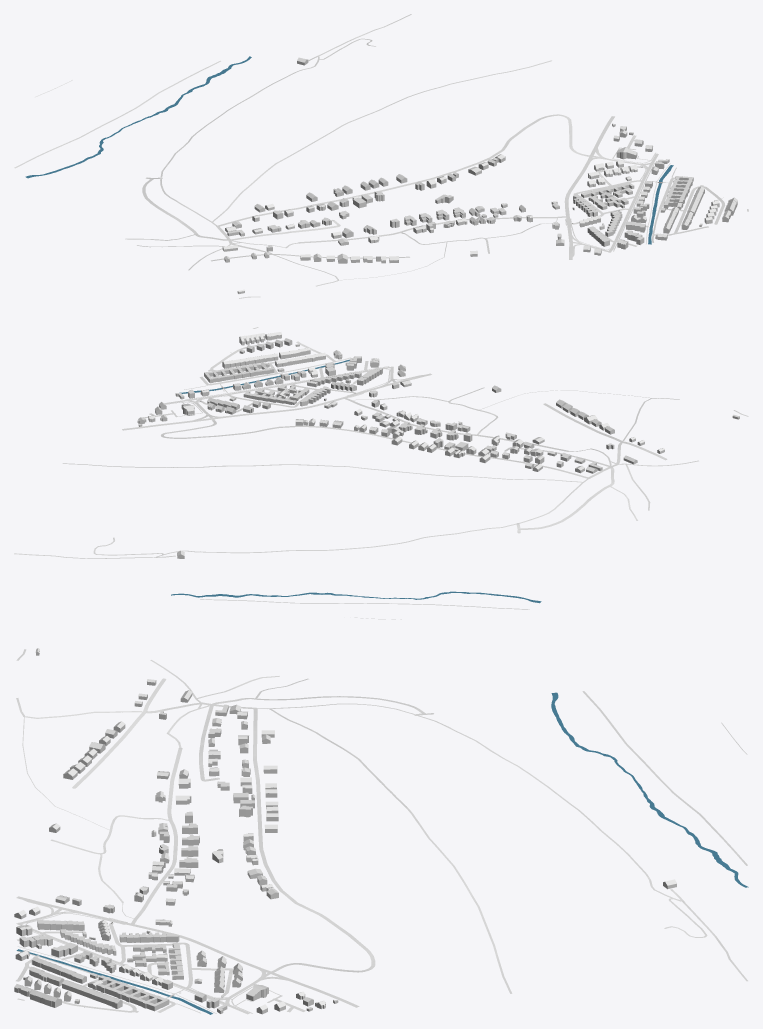
Rendered from objekty.glb.
3 views of the same model, one above another, from view 1: azimuth 30°, elevation 25°; view 2: azimuth 150°, elevation 25°; view 3: azimuth 270°, elevation 25° (orthographic). The views are drawn at different scales.
Visible parts, largest first — view 1: Budovy_05_04, Cesty_05_04, Okna_Dvere_05_04, Voda_05_04; view 2: Budovy_05_04, Cesty_05_04, Okna_Dvere_05_04, Voda_05_04; view 3: Budovy_05_04, Cesty_05_04, Okna_Dvere_05_04, Voda_05_04.
Part boxes in pixels (box(x1,y1,x2,y2)): Budovy_05_04: box(222, 57, 737, 293); Cesty_05_04: box(14, 14, 748, 298); Okna_Dvere_05_04: box(222, 129, 737, 292); Voda_05_04: box(25, 56, 673, 244); Budovy_05_04: box(137, 332, 739, 558); Cesty_05_04: box(14, 327, 748, 619); Okna_Dvere_05_04: box(137, 335, 739, 556); Voda_05_04: box(171, 359, 541, 603); Budovy_05_04: box(14, 648, 676, 1014); Cesty_05_04: box(16, 649, 747, 1014); Okna_Dvere_05_04: box(15, 653, 672, 1012); Voda_05_04: box(16, 692, 748, 1014).
Bounding box in the file's own units: 1008 × 91.37 × 1009.
